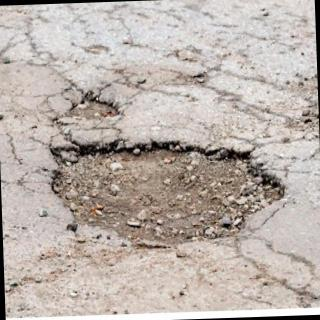pothole: (50, 142, 286, 246), (66, 91, 119, 120)
